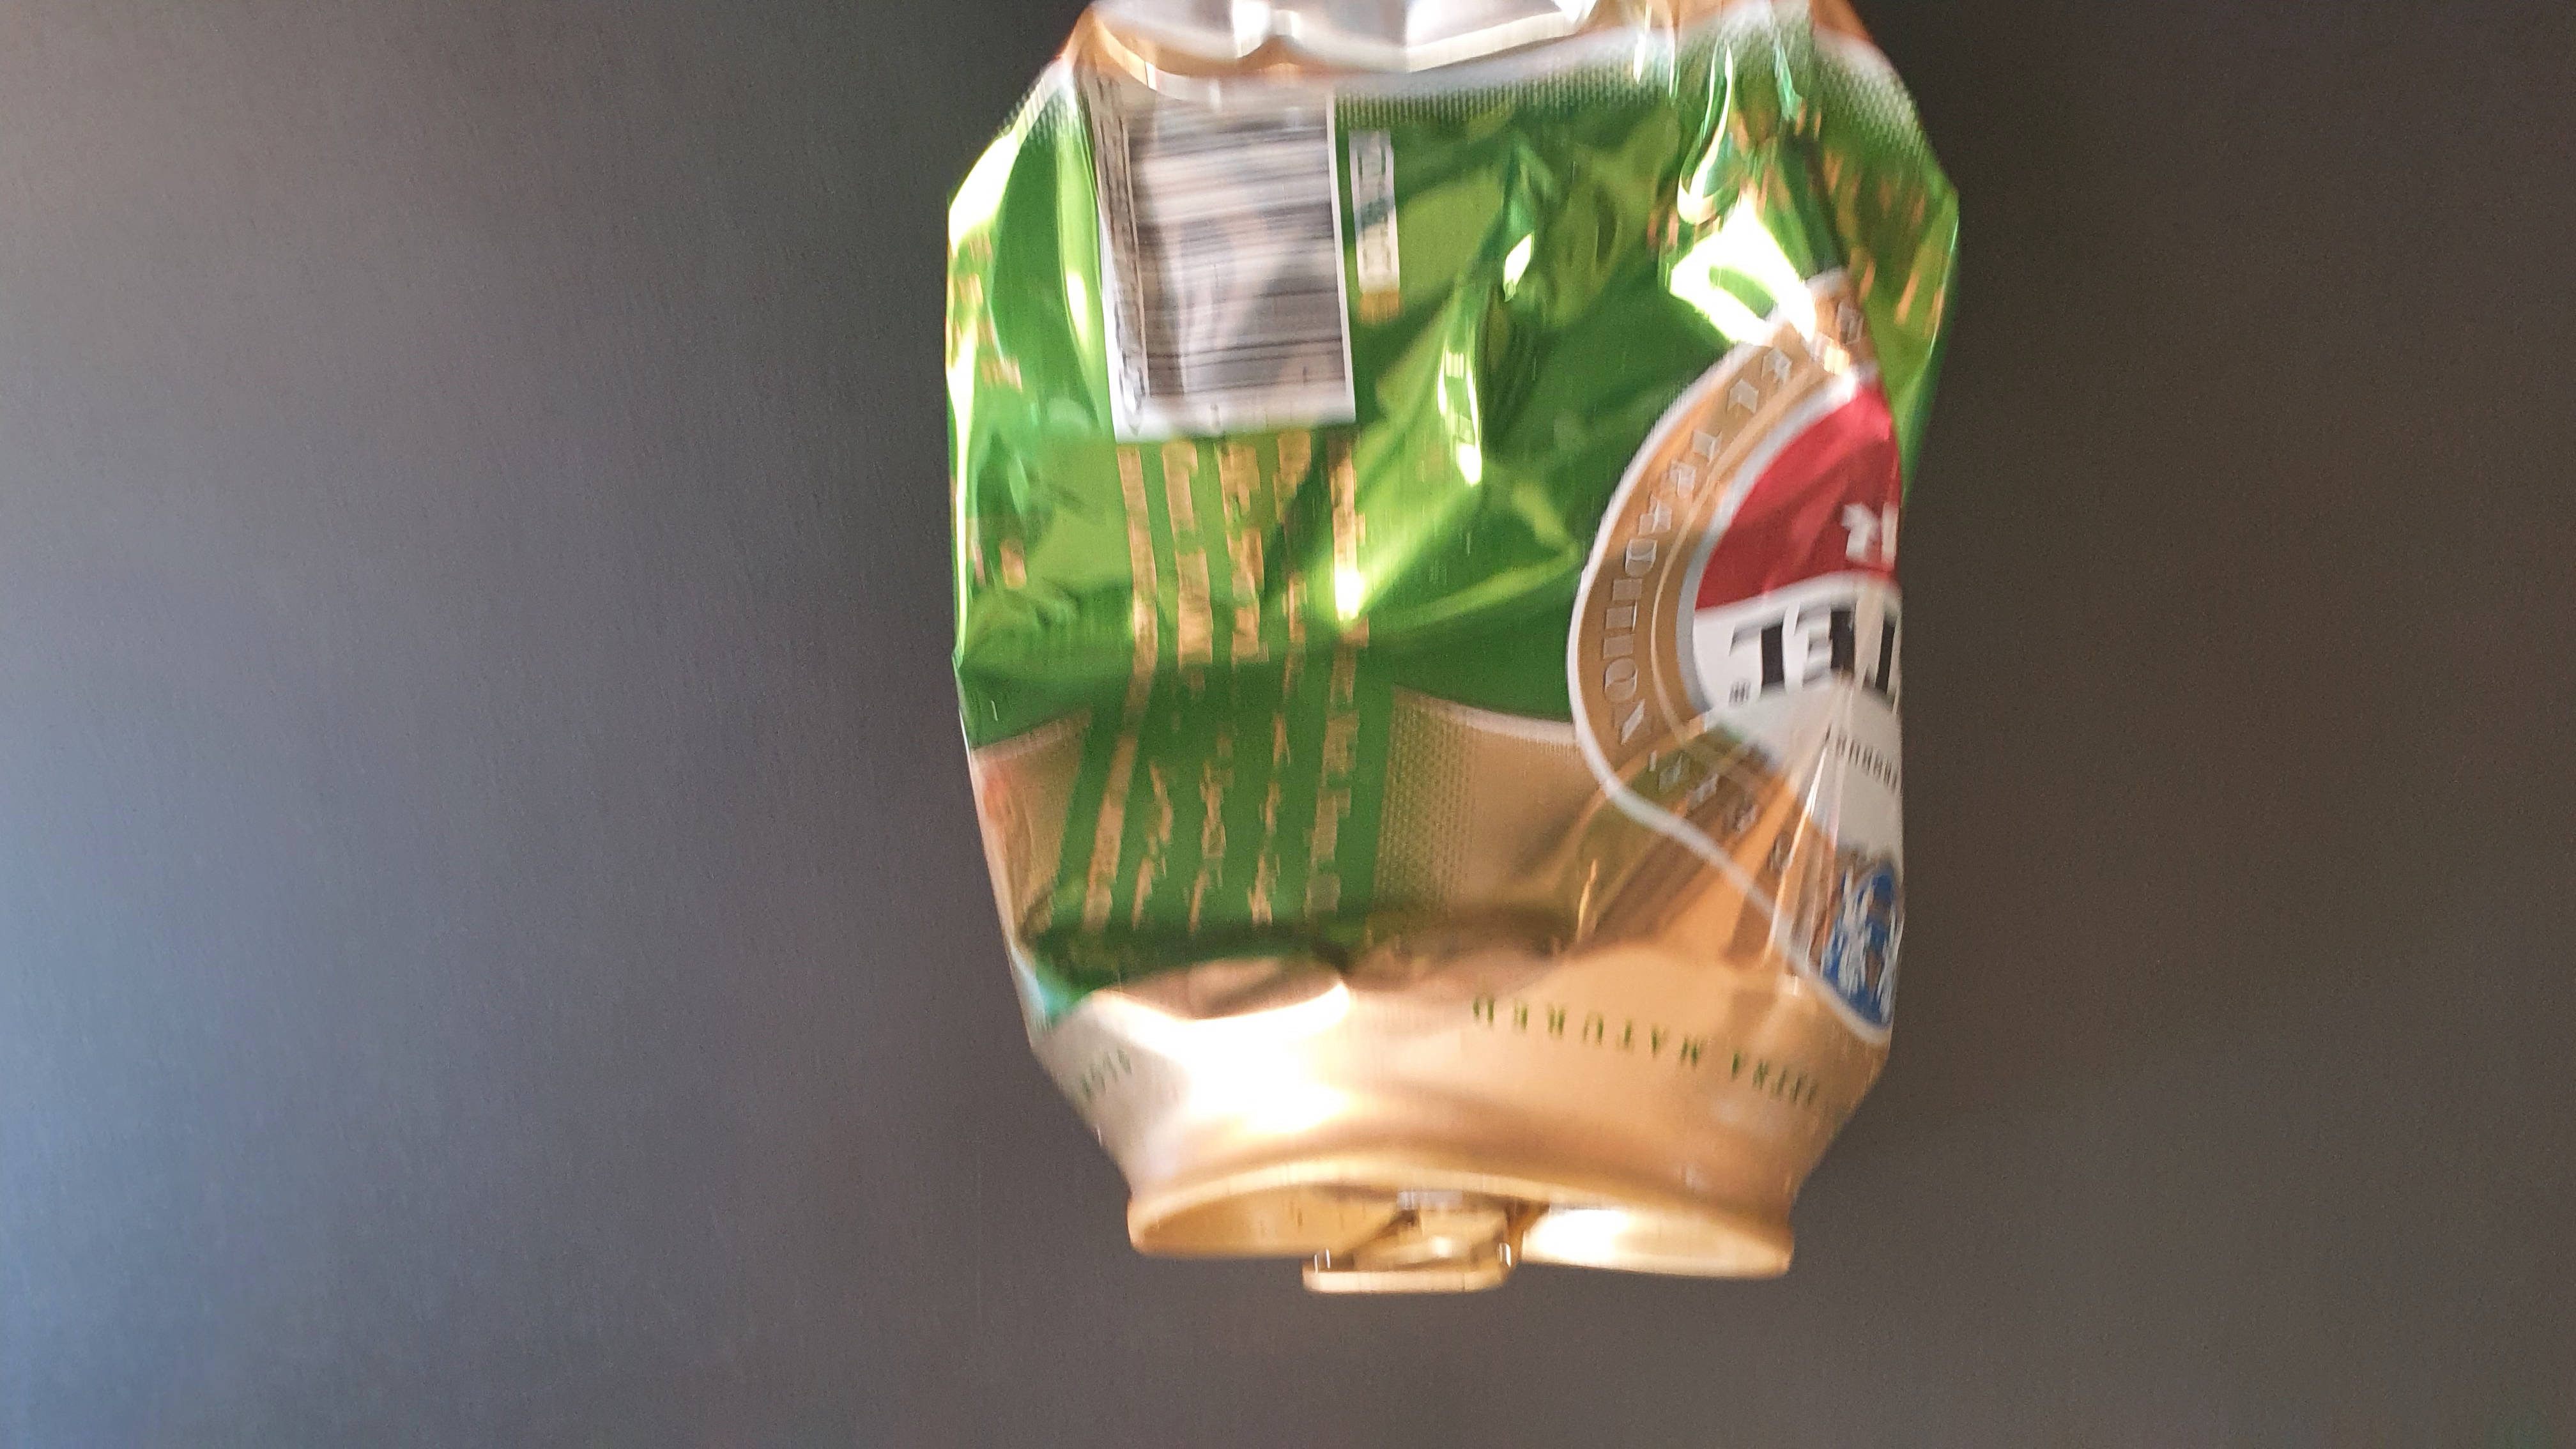metal: (897, 0, 2010, 1345)
